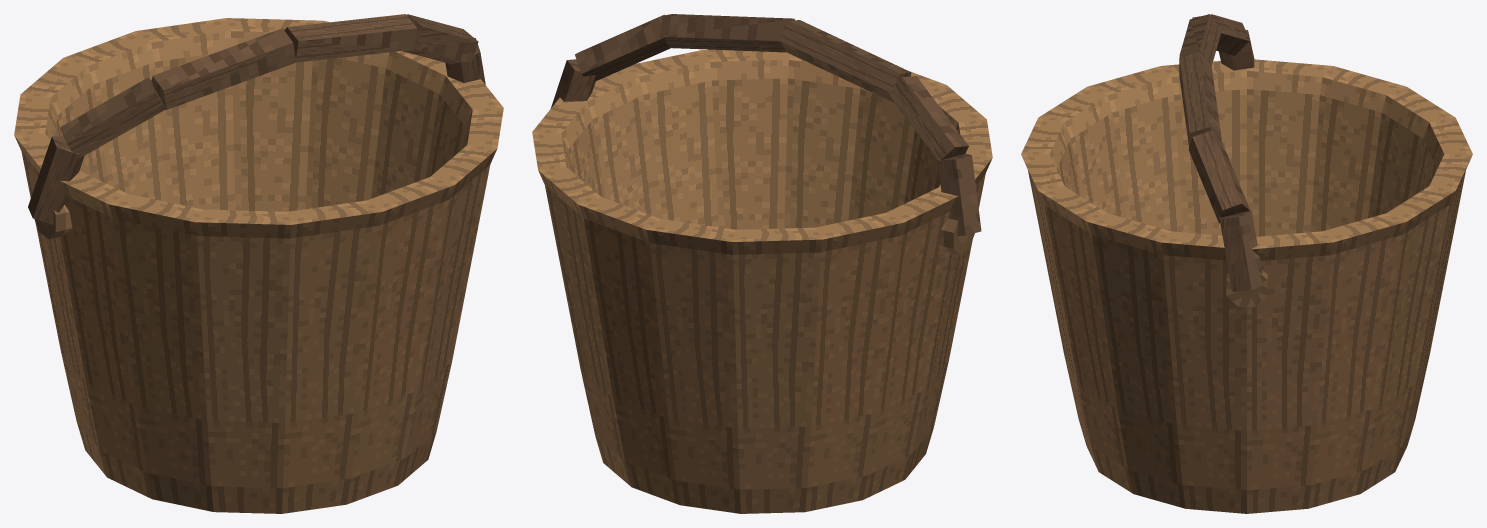
Rendered from bucket_wood.glb.
3 renders of one model, left to right at view 1: azimuth 30°, elevation 25°; view 2: azimuth 150°, elevation 25°; view 3: azimuth 270°, elevation 25°, orthographic. The views are drawn at different scales.
Visible parts, largest first — view 1: block_hollowed wooden pail, block_arched carry handle 2, block_arched carry handle 3, block_arched carry handle 1, block_arched carry handle 0, block_arched carry handle 4, block_arched carry handle 5, block_handle lug; view 2: block_hollowed wooden pail, block_arched carry handle 2, block_arched carry handle 3, block_arched carry handle 1, block_arched carry handle 4, block_arched carry handle 0, block_arched carry handle 5, block_handle lug; view 3: block_hollowed wooden pail, block_arched carry handle 4, block_arched carry handle 3, block_arched carry handle 5, block_arched carry handle 2, block_arched carry handle 1, block_handle lug, block_arched carry handle 0.
Boxes of the visible parts, x1=… form: block_hollowed wooden pail: x1=14, y1=18, x2=503, y2=513; block_arched carry handle 2: x1=151, y1=28, x2=296, y2=109; block_arched carry handle 3: x1=284, y1=14, x2=417, y2=62; block_arched carry handle 1: x1=59, y1=77, x2=165, y2=158; block_arched carry handle 0: x1=28, y1=136, x2=84, y2=224; block_arched carry handle 4: x1=402, y1=14, x2=478, y2=63; block_arched carry handle 5: x1=445, y1=38, x2=485, y2=84; block_handle lug: x1=34, y1=205, x2=72, y2=239; block_hollowed wooden pail: x1=532, y1=49, x2=992, y2=513; block_arched carry handle 2: x1=779, y1=20, x2=911, y2=102; block_arched carry handle 3: x1=659, y1=14, x2=794, y2=52; block_arched carry handle 1: x1=887, y1=76, x2=968, y2=162; block_arched carry handle 4: x1=575, y1=14, x2=670, y2=81; block_arched carry handle 0: x1=937, y1=153, x2=981, y2=235; block_arched carry handle 5: x1=551, y1=59, x2=595, y2=107; block_handle lug: x1=938, y1=218, x2=974, y2=255; block_hollowed wooden pail: x1=1021, y1=59, x2=1472, y2=513; block_arched carry handle 4: x1=1188, y1=130, x2=1250, y2=223; block_arched carry handle 3: x1=1179, y1=52, x2=1221, y2=147; block_arched carry handle 5: x1=1219, y1=211, x2=1263, y2=291; block_arched carry handle 2: x1=1179, y1=14, x2=1221, y2=66; block_arched carry handle 1: x1=1192, y1=14, x2=1250, y2=55; block_handle lug: x1=1226, y1=270, x2=1267, y2=306; block_arched carry handle 0: x1=1219, y1=30, x2=1254, y2=70.
Size of the model in its own units: 0.273 by 0.2454 by 0.2544.
1 material, 1 textured.
